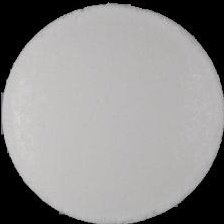63629-1564: (0, 0, 224, 224)
